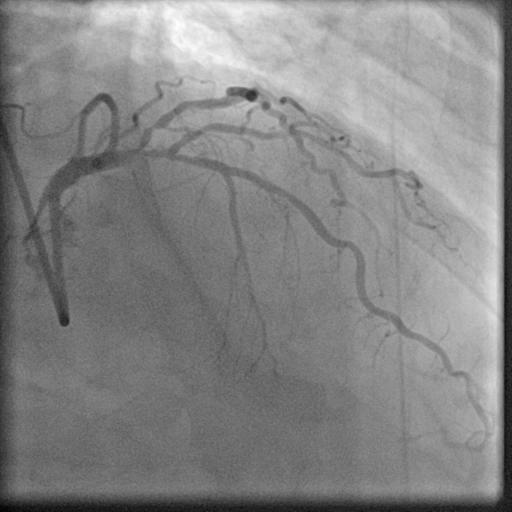Stenosis: (140, 120, 162, 136)
